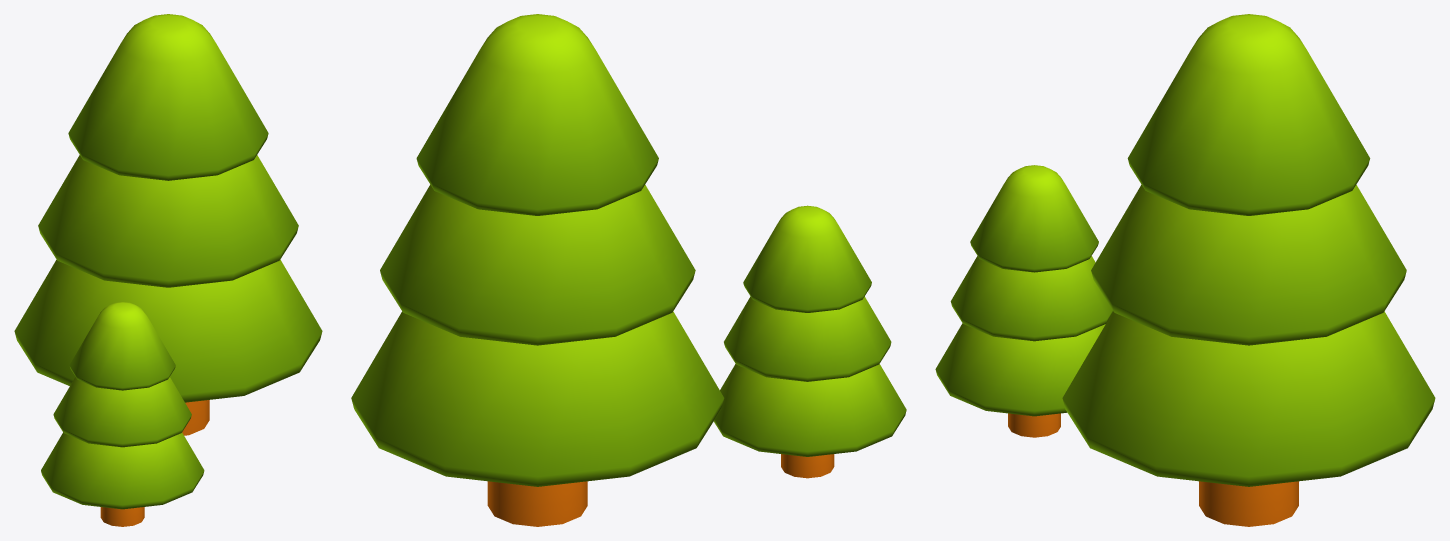
The model's file is Plant_Tree_01A.fbx.
3 renders of one model, left to right at view 1: azimuth 30°, elevation 25°; view 2: azimuth 150°, elevation 25°; view 3: azimuth 270°, elevation 25°, orthographic. The views are drawn at different scales.
Parts seen in each view (by area): view 1: Plant_Tree_01A; view 2: Plant_Tree_01A; view 3: Plant_Tree_01A.
Boxes of the visible parts, x1,y1,x2,y2 form: Plant_Tree_01A: (14,14,322,526); Plant_Tree_01A: (351,14,906,526); Plant_Tree_01A: (935,14,1435,526).
Size of the model in its own units: 171 by 192 by 181.
